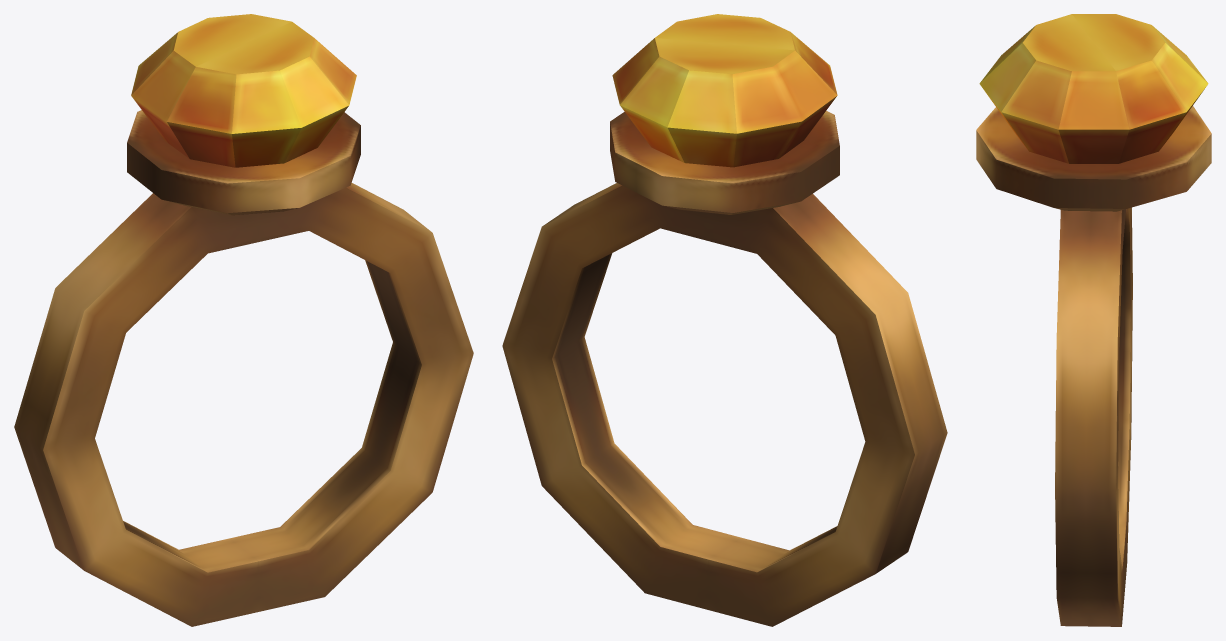
File: ring2.FBX
The picture shows the model from 3 angles, left to right: view 1: azimuth 30°, elevation 25°; view 2: azimuth 150°, elevation 25°; view 3: azimuth 270°, elevation 25°; orthographic projection.
Visible parts, largest first — view 1: ring2; view 2: ring2; view 3: ring2.
Part boxes in pixels (box(x1,y1,x2,y2)): ring2: box(14, 14, 473, 626); ring2: box(502, 14, 947, 626); ring2: box(976, 14, 1211, 626).
Size of the model in its own units: 32.07 by 40.2 by 15.54.
